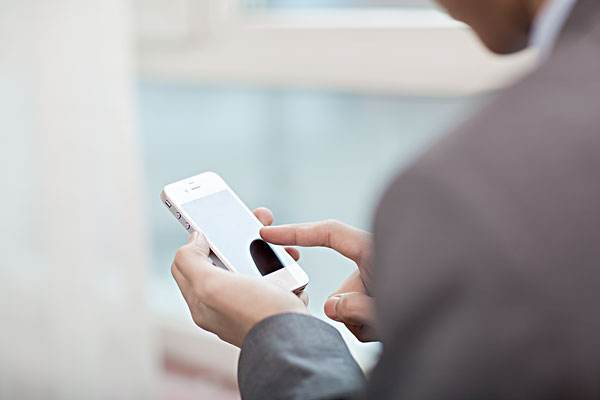reading: (153, 164, 378, 348)
